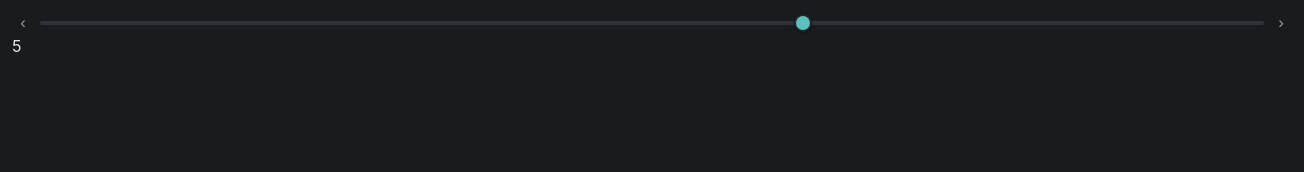
Scenario: TimeStepper › stops on a click of the same arrow and turns round on the other
Click the button named "Previous date". click: (23, 23)
box: [12,12,34,34]
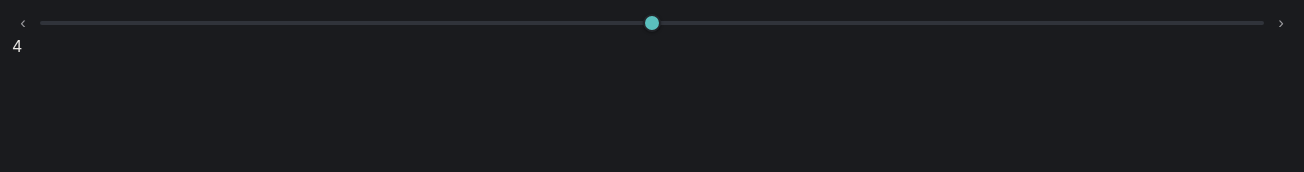
Click the button named "Previous date". click: (23, 23)
box: [12,12,34,34]
Wait 1000 ms
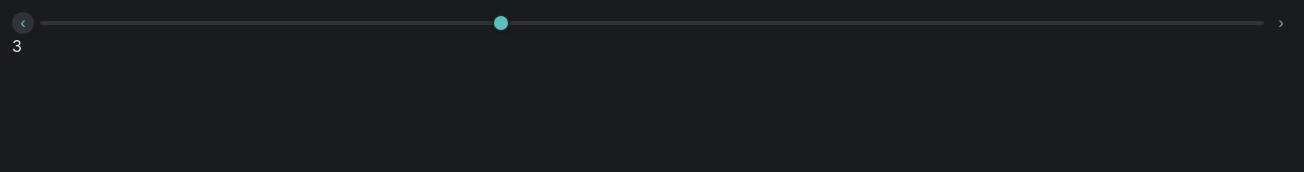
Click the button named "Next date". click: (1281, 23)
box: [1270,12,1292,34]
Wait 2000 ms
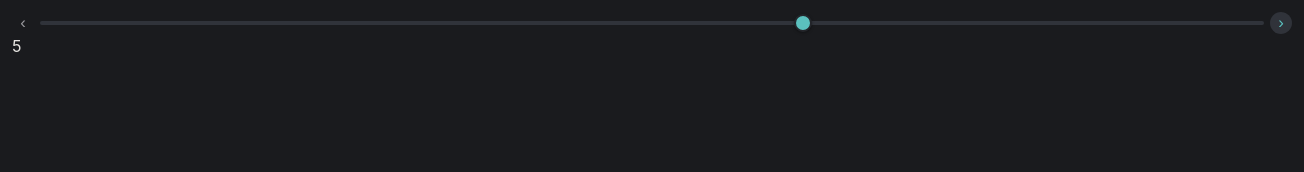
Now the button named "Next date" is pressed
Now the button named "Previous date" is not pressed, box [12,12,34,34]
Click the button named "Next date". click: (1281, 23)
box: [1270,12,1292,34]
Wait 3000 ms
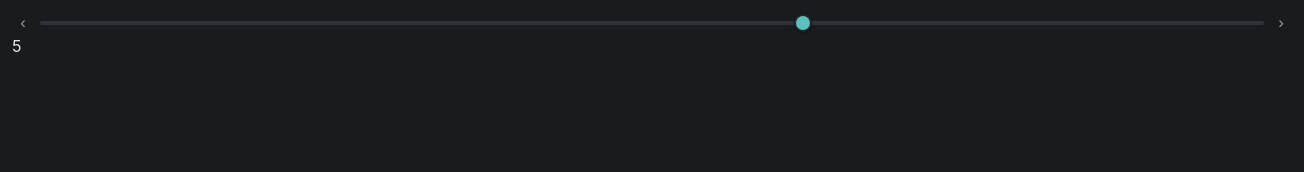
Now the button named "Next date" is not pressed, box [1270,12,1292,34]
